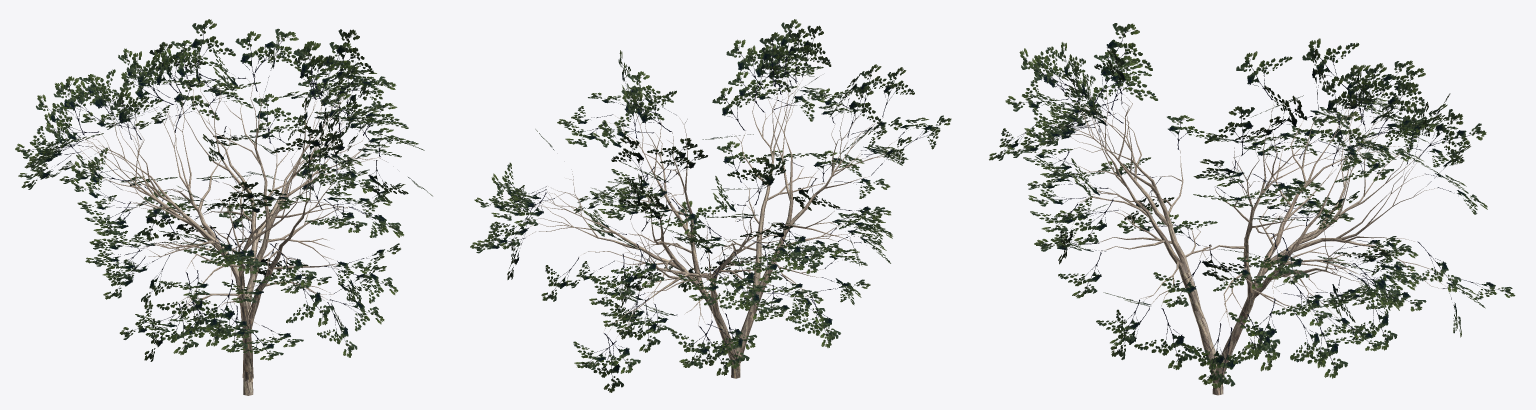
The model's file is ArvoreRala.fbx.
3 views of the same model, side by side, from view 1: azimuth 30°, elevation 25°; view 2: azimuth 150°, elevation 25°; view 3: azimuth 270°, elevation 25° (orthographic). The views are drawn at different scales.
Parts seen in each view (by area): view 1: Folhas2_LOD0, Arvore2_LOD0; view 2: Folhas2_LOD0, Arvore2_LOD0; view 3: Folhas2_LOD0, Arvore2_LOD0.
Part boxes in pixels (x1=…): Folhas2_LOD0: x1=15, y1=19, x2=432, y2=361; Arvore2_LOD0: x1=72, y1=76, x2=386, y2=395; Folhas2_LOD0: x1=470, y1=19, x2=951, y2=392; Arvore2_LOD0: x1=528, y1=76, x2=896, y2=378; Folhas2_LOD0: x1=989, y1=23, x2=1515, y2=388; Arvore2_LOD0: x1=1049, y1=87, x2=1446, y2=395.
Size of what is drawn, in the model's own units: 1214 by 999 by 1382.
